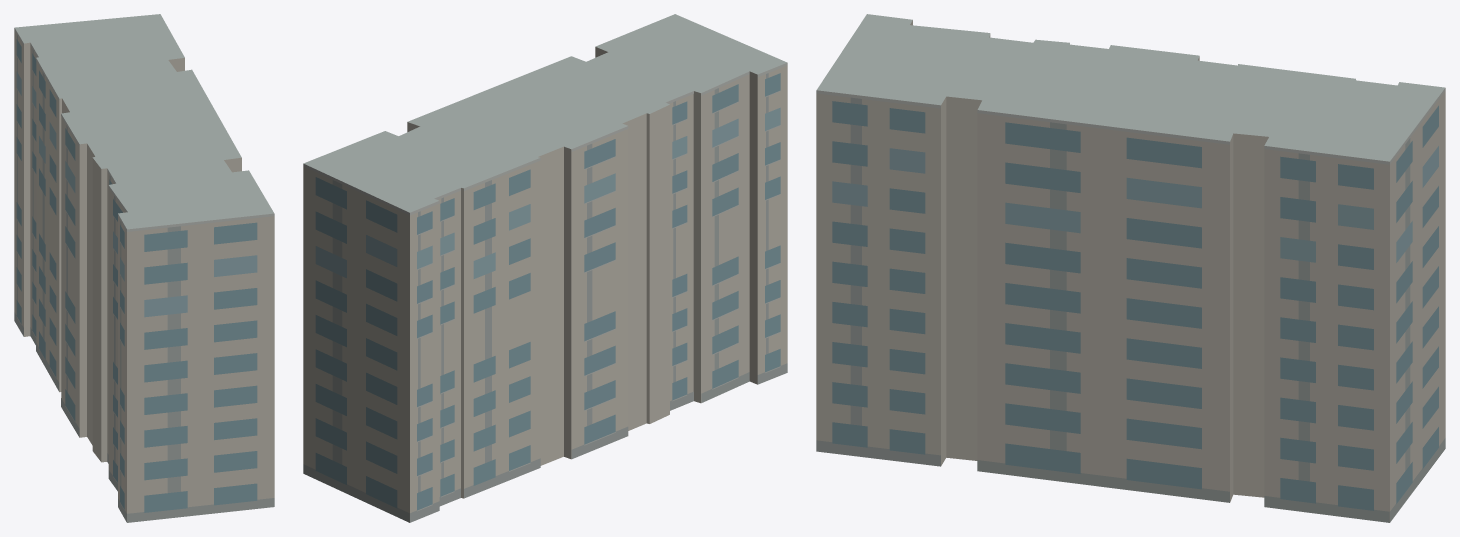
Rendered from survey-upis-32876089.glb.
3 views of the same model, side by side, from view 1: azimuth 30°, elevation 25°; view 2: azimuth 150°, elevation 25°; view 3: azimuth 270°, elevation 25° (orthographic). The views are drawn at different scales.
Visible parts, largest first — view 1: survey-upis-32876089.tmp; view 2: survey-upis-32876089.tmp; view 3: survey-upis-32876089.tmp.
Part boxes in pixels (x1=…): survey-upis-32876089.tmp: x1=14, y1=14, x2=274, y2=522; survey-upis-32876089.tmp: x1=303, y1=14, x2=787, y2=522; survey-upis-32876089.tmp: x1=816, y1=14, x2=1445, y2=522.
Bounding box in the file's own units: 24.07 × 27.45 × 43.33.
